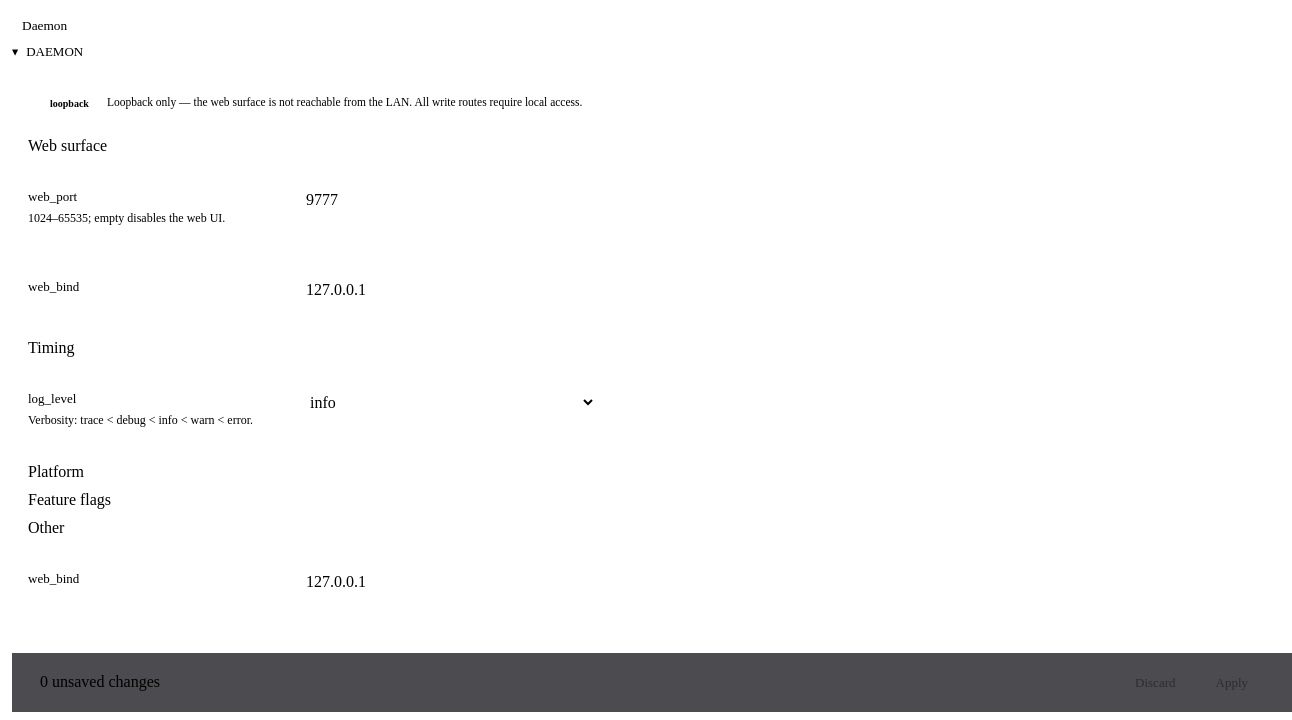
Test: SettingsForm › registers beforeunload when dirty, removes after discard
The width and height of the screenshot is (1292, 720).
Expected: the heading "Daemon" is shown, [26, 44, 83, 60]
# Make dirty
Select "debug" in the dropdown labelled "log_level": (446, 402) [296, 386, 596, 418]
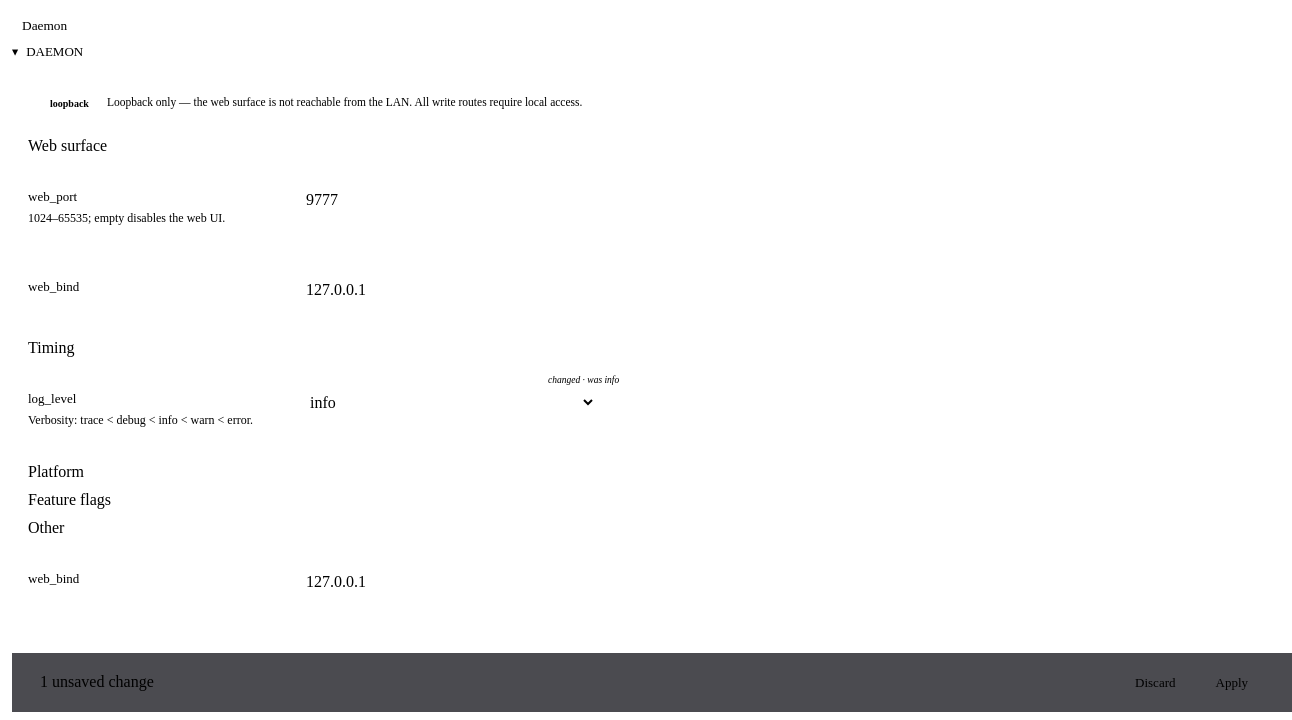
Result: the text "1 unsaved change" is shown at [40, 673, 154, 691]
# Discard — dirty count goes to 0
Click the button "Discard": (1155, 682) [1119, 666, 1192, 698]
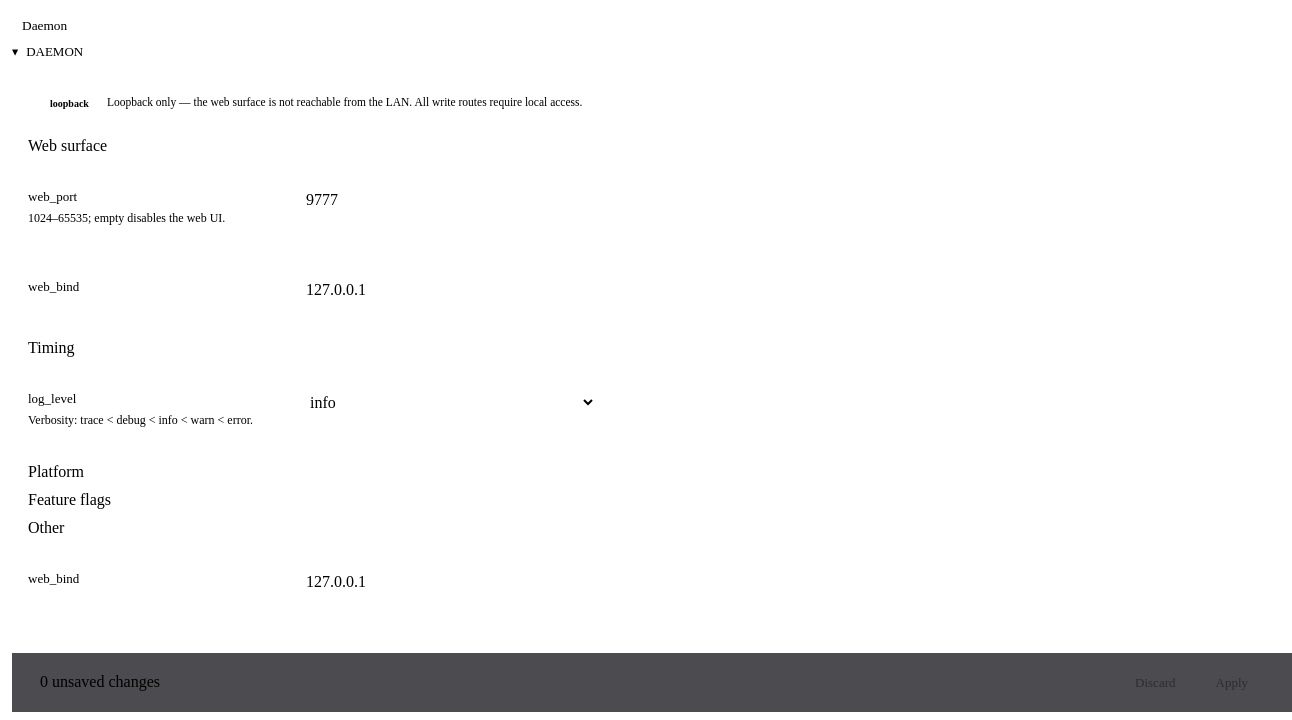
Result: the text "0 unsaved changes" is shown at [40, 673, 160, 691]
